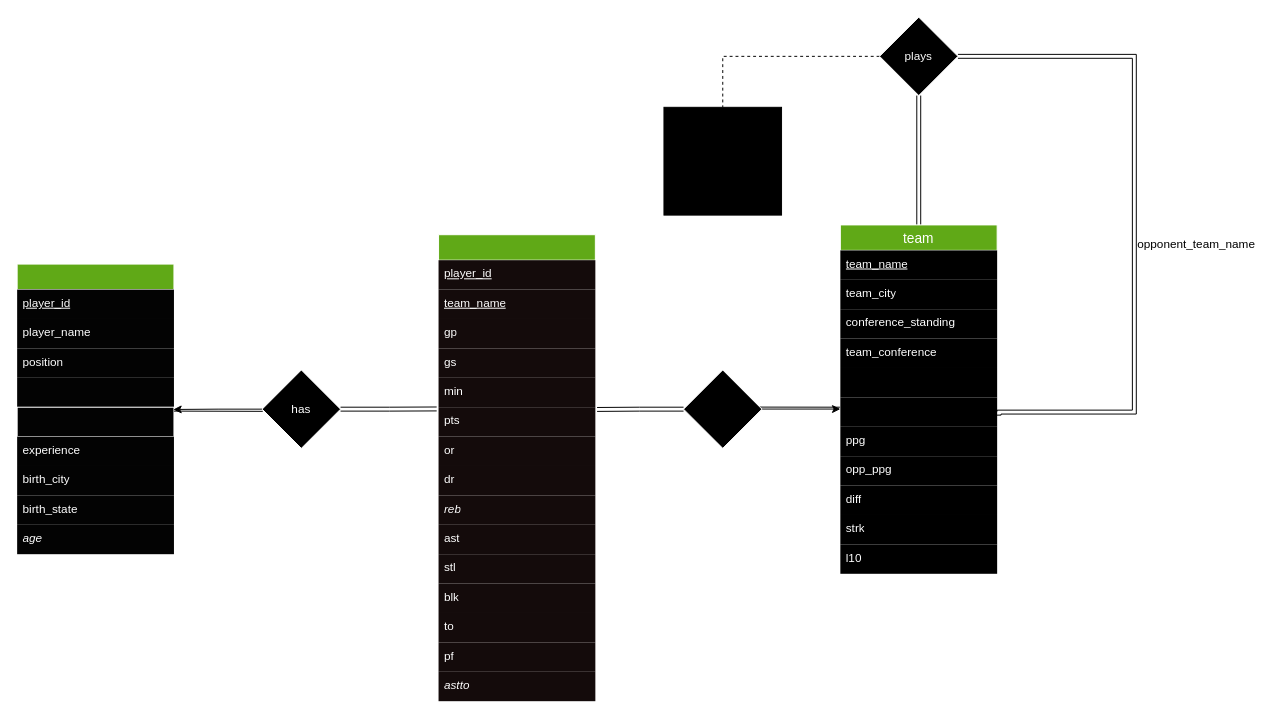
Some shapes in this 1282 by 721 pixel diagram are drawn without their labels. The shapes that lost their labels are listed below. From the top down, each one's box as (x1, y1, x2, y2) in pixels, then its label:
(663, 106, 782, 215): match_date match_day match_court winner overtime score1 score
(17, 377, 173, 407): height
(840, 368, 997, 397): pct
(16, 263, 174, 554): player_bio
(16, 406, 174, 437): birthdate
(683, 369, 762, 448): plays for
(840, 397, 997, 426): gb
(438, 234, 595, 701): player_stats
